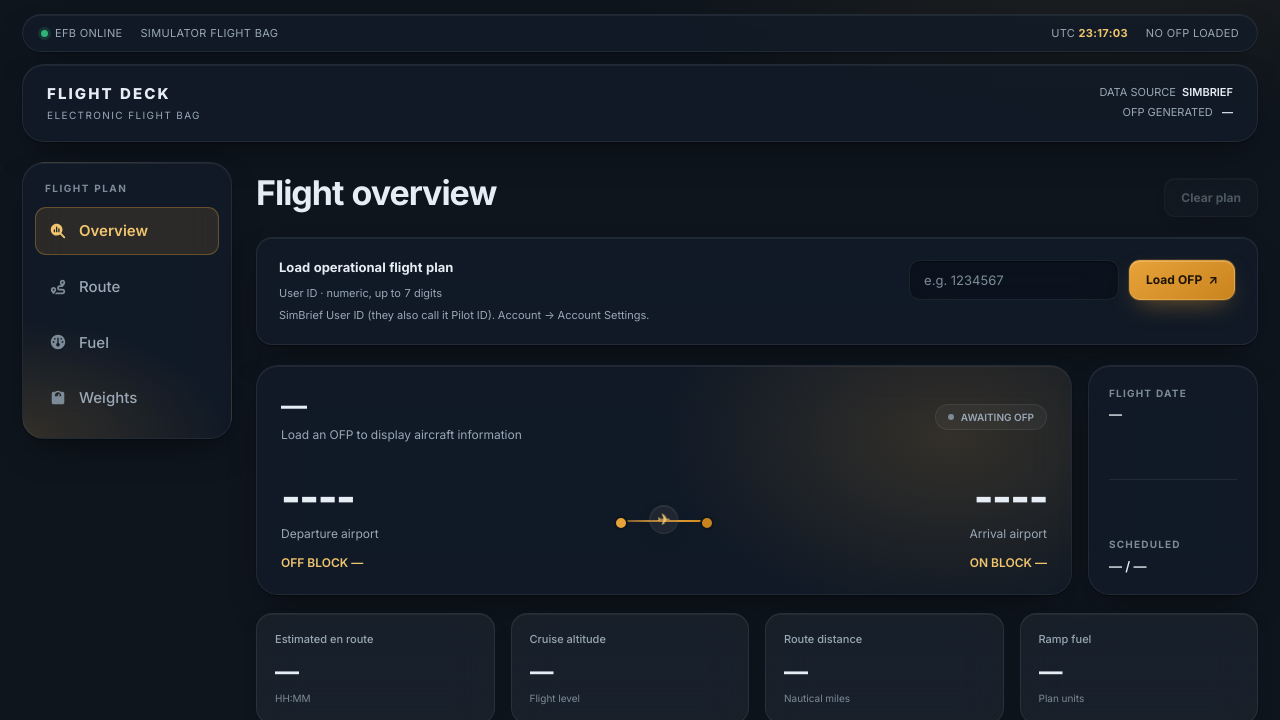
App › shows the loader, skeleton cards and disabled buttons while fetching
Type "1381511" into the field labelled "User ID · numeric, up to 7 digits" at [1014, 280], box [909, 260, 1119, 300]
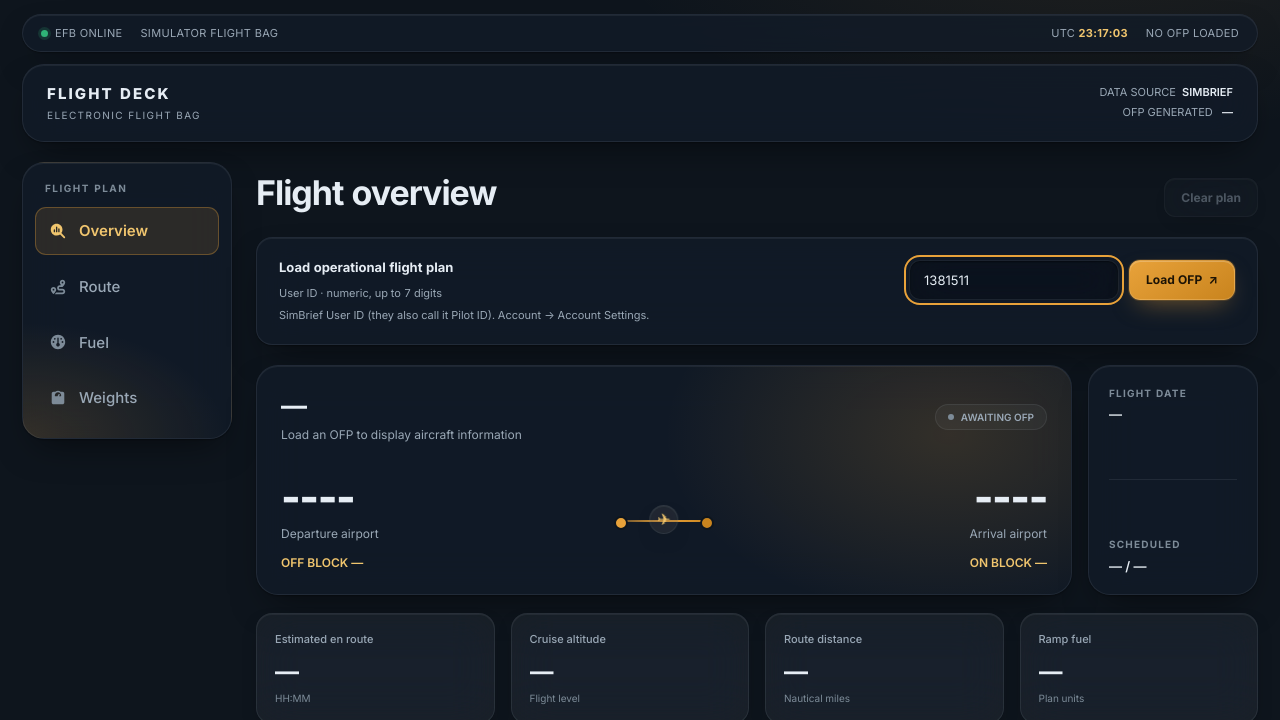
Click the button "Load OFP ↗" at [1182, 280], box [1129, 260, 1235, 300]
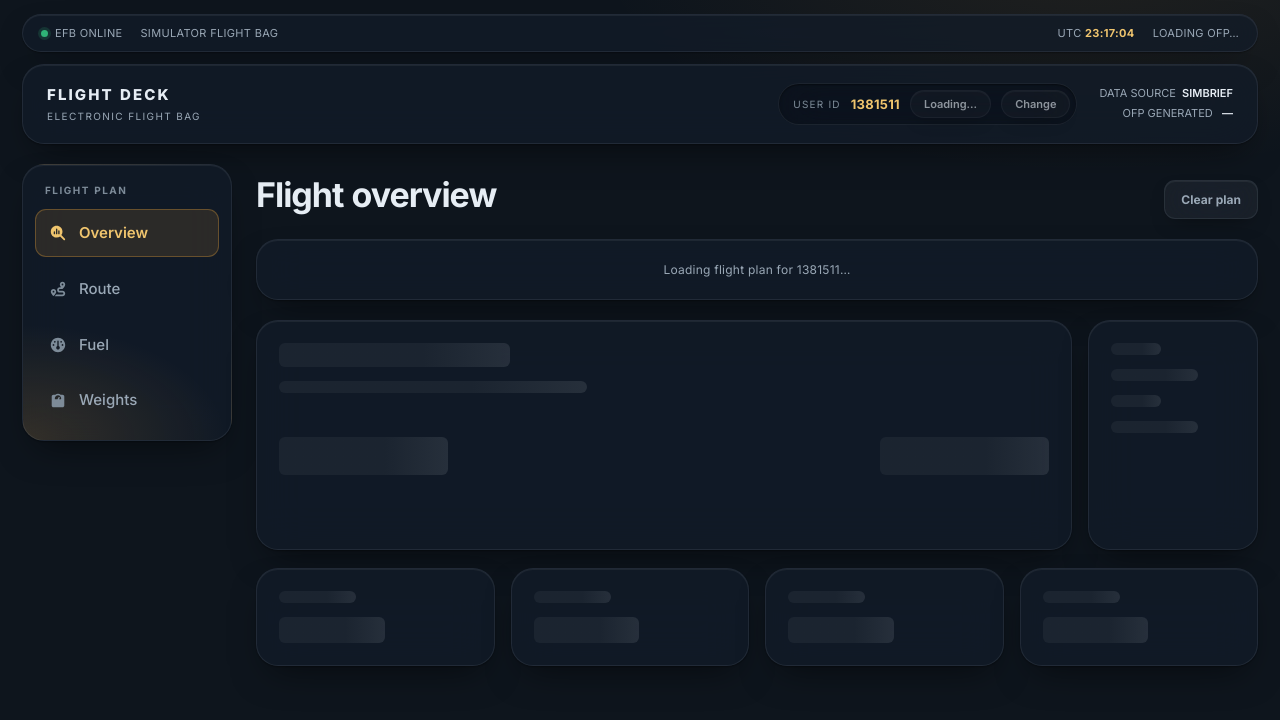
Expected: the text "Loading flight plan for 1381511…" is shown, [663, 262, 850, 277]
Expected: the 1st element with class "skeleton-card" is shown, [256, 320, 1072, 550]
Expected: the button "Loading…" is disabled, [910, 90, 991, 118]
